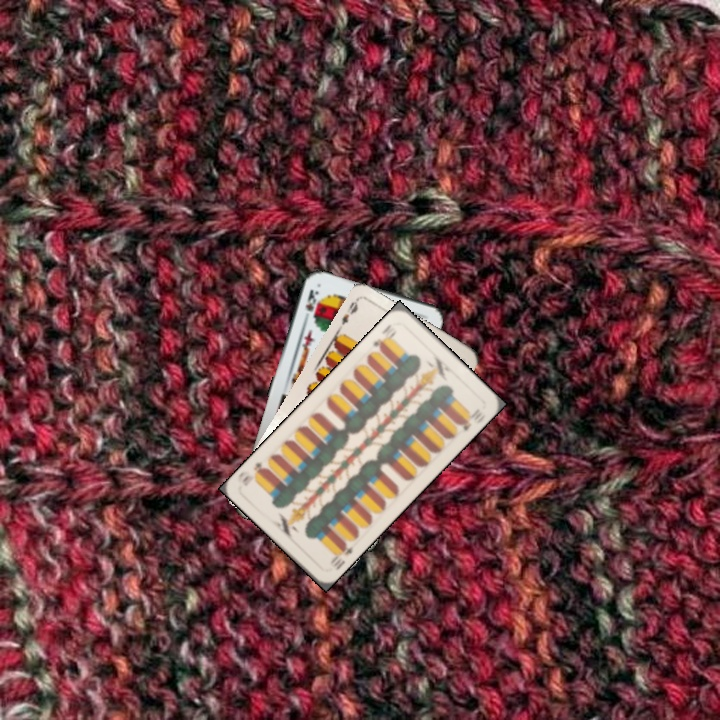E10: (369, 320, 399, 353), (326, 538, 356, 568)
E9: (337, 295, 361, 328)
SK: (301, 285, 321, 314)
